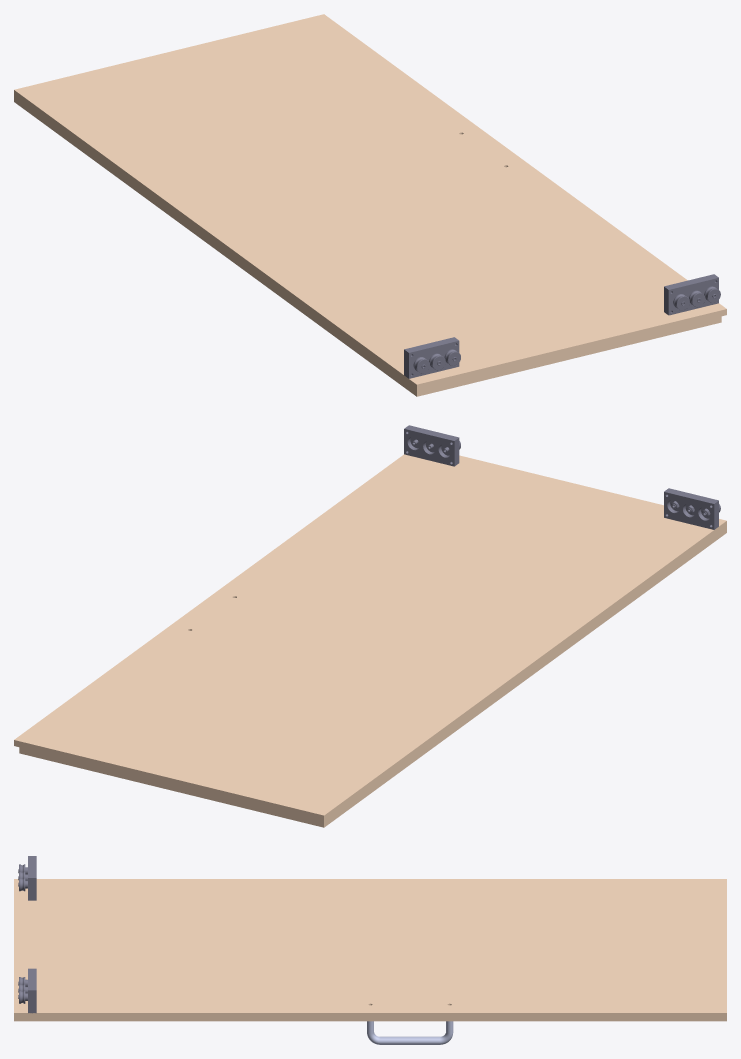
Rendered from TrRechts.DAE.
The picture shows the model from 3 angles, top to bottom: view 1: azimuth 30°, elevation 25°; view 2: azimuth 150°, elevation 25°; view 3: azimuth 270°, elevation 25°; orthographic projection. The views are drawn at different scales.
Visible parts, largest first — view 1: NONE-DC_Shell (×3); view 2: NONE-DC_Shell (×3); view 3: NONE-DC_Shell (×4).
Part boxes in pixels (x1,y1,x2,y2): NONE-DC_Shell (×3): (14,14,726,396); NONE-DC_Shell (×3): (14,425,726,827); NONE-DC_Shell (×4): (14,856,726,1044).
Bounding box in the file's own units: 0.4 × 0.9 × 0.087.
